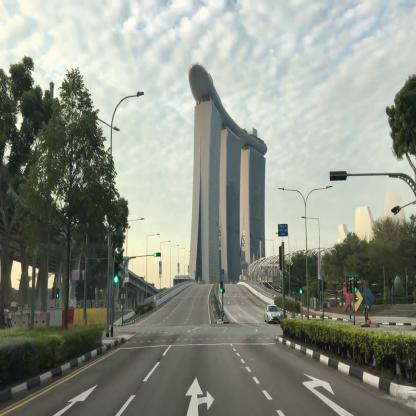green_traffic_light: (115, 262, 118, 282), (299, 282, 302, 294), (154, 253, 160, 257), (221, 281, 223, 292)
